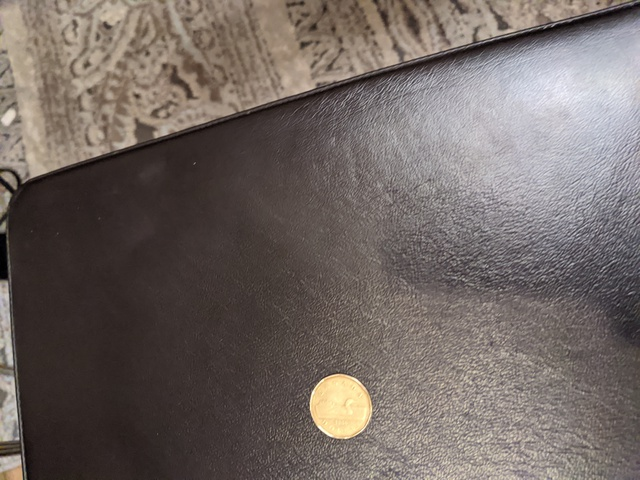loonie: (304, 371, 376, 447)
